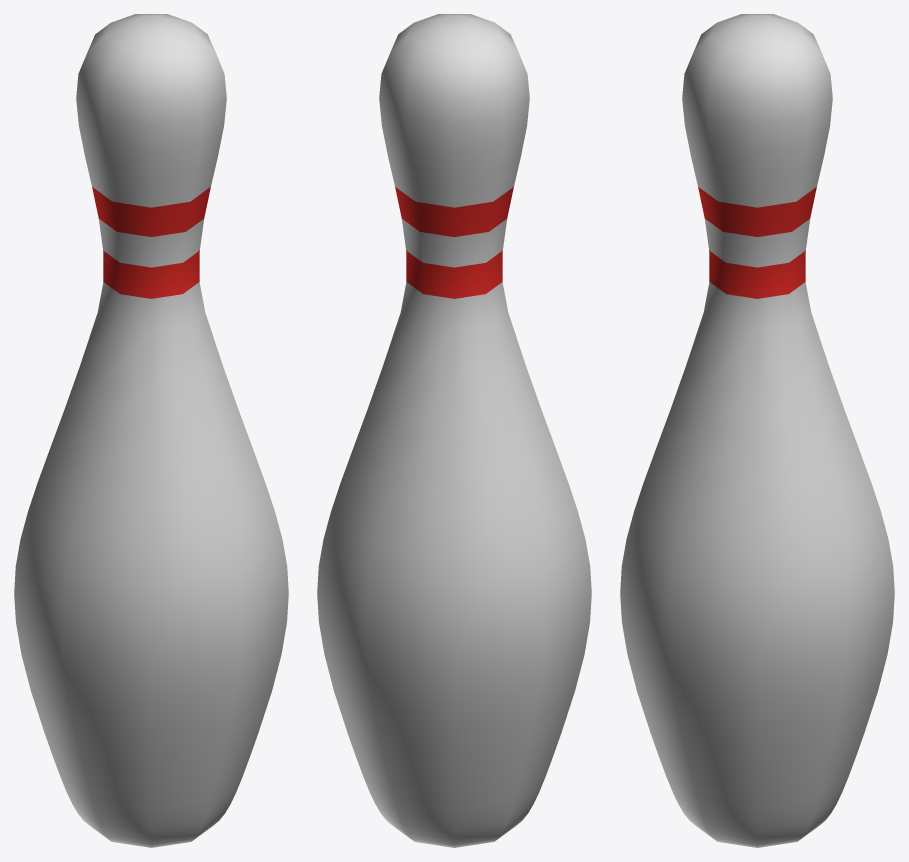
The model's file is Pin_fix.fbx.
3 renders of one model, left to right at view 1: azimuth 30°, elevation 25°; view 2: azimuth 150°, elevation 25°; view 3: azimuth 270°, elevation 25°, orthographic.
Visible parts, largest first — view 1: Pin; view 2: Pin; view 3: Pin.
Part boxes in pixels (x1,y1,x2,y2): Pin: (14, 14, 288, 847); Pin: (317, 14, 591, 847); Pin: (620, 14, 894, 847).
Size of the model in its own units: 115 by 374 by 116.
